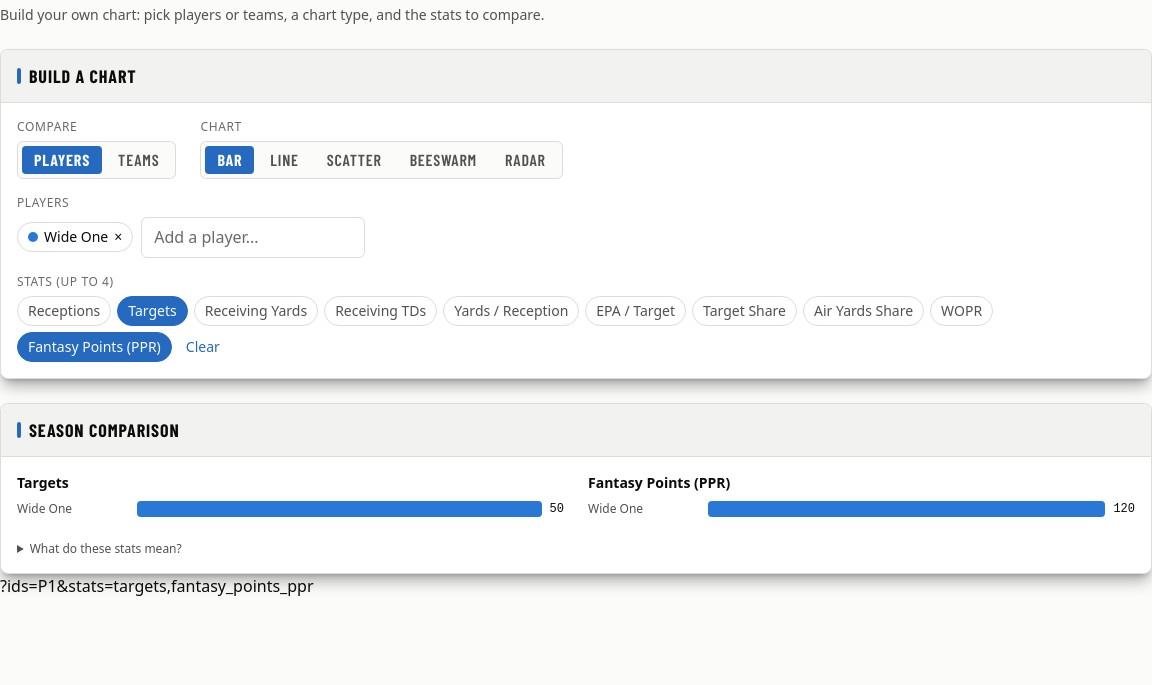
Test: CreatePage › explains the charted stats, bar or line
Expected: the element "Targets" is shown, [17,473,564,517]
Expected: the heading "What do these stats mean?" is shown, [30,540,182,557]
Click the button "Line" at (285, 160), box [258,146,311,174]
(page scrolled)
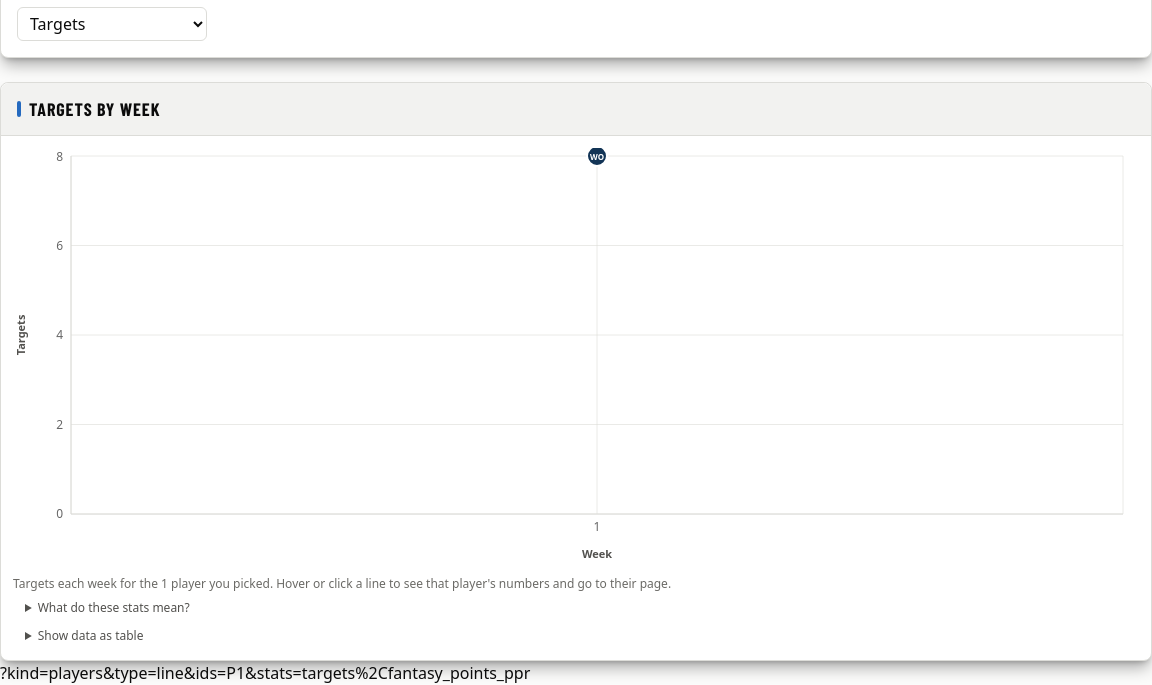
Expected: the element named "Targets by Week" is shown, [13,148,1139,568]
